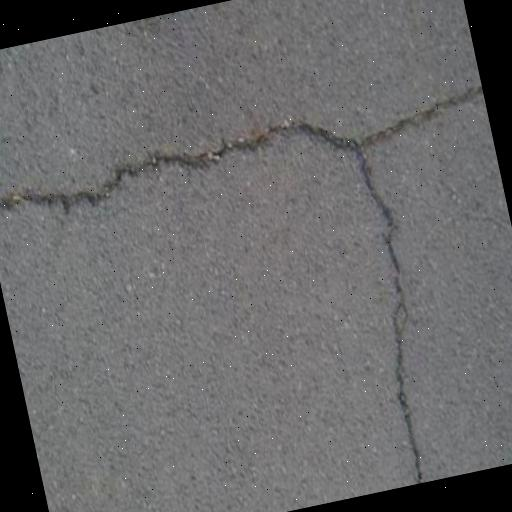spalling: (0, 75, 477, 229), (336, 153, 438, 473)
